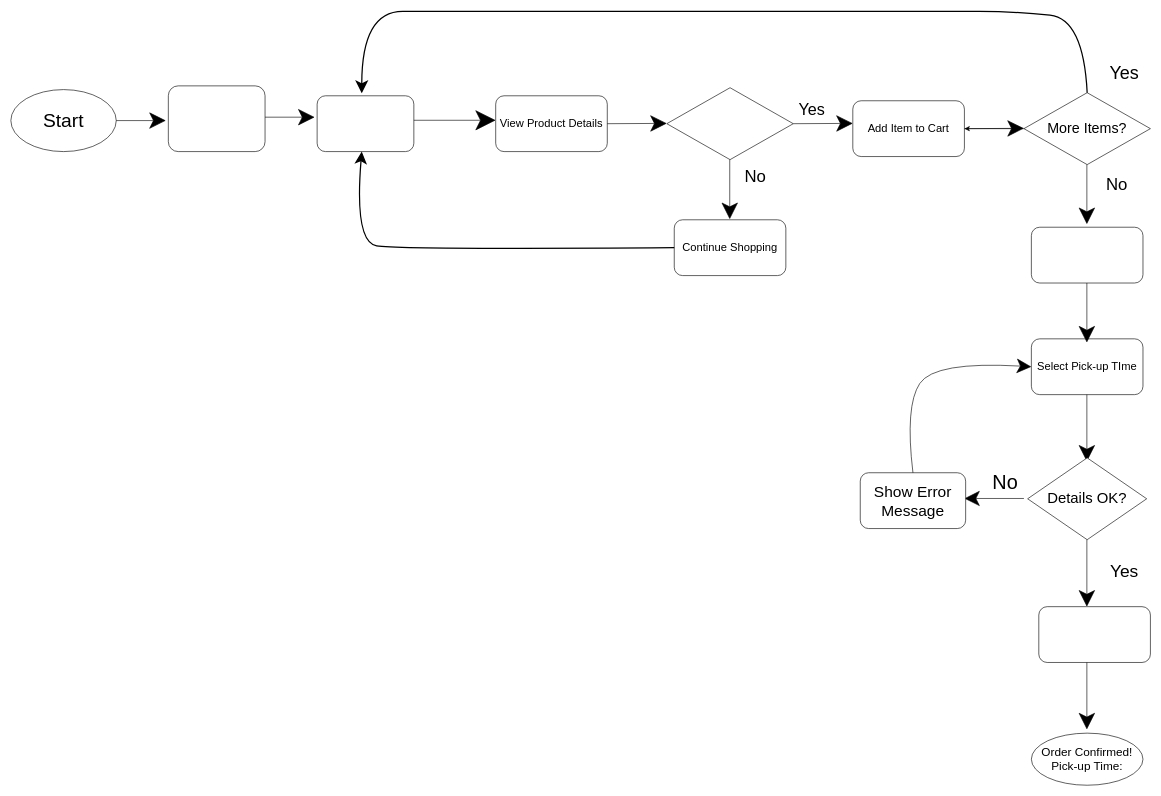
The diagram is 1161 pixels wide and 796 high, and some of its shapes have lost their labels. The shapes that lost their labels are listed below. From the top down, each one's centre as x and y in pixels, then its label:
At point (216, 118): "Open Shop Page".
At point (365, 123): "Browse Menu".
At point (729, 123): "Add to Cart?".
At point (1087, 255): "Go to Checkout".
At point (1094, 634): "Submit Order".
